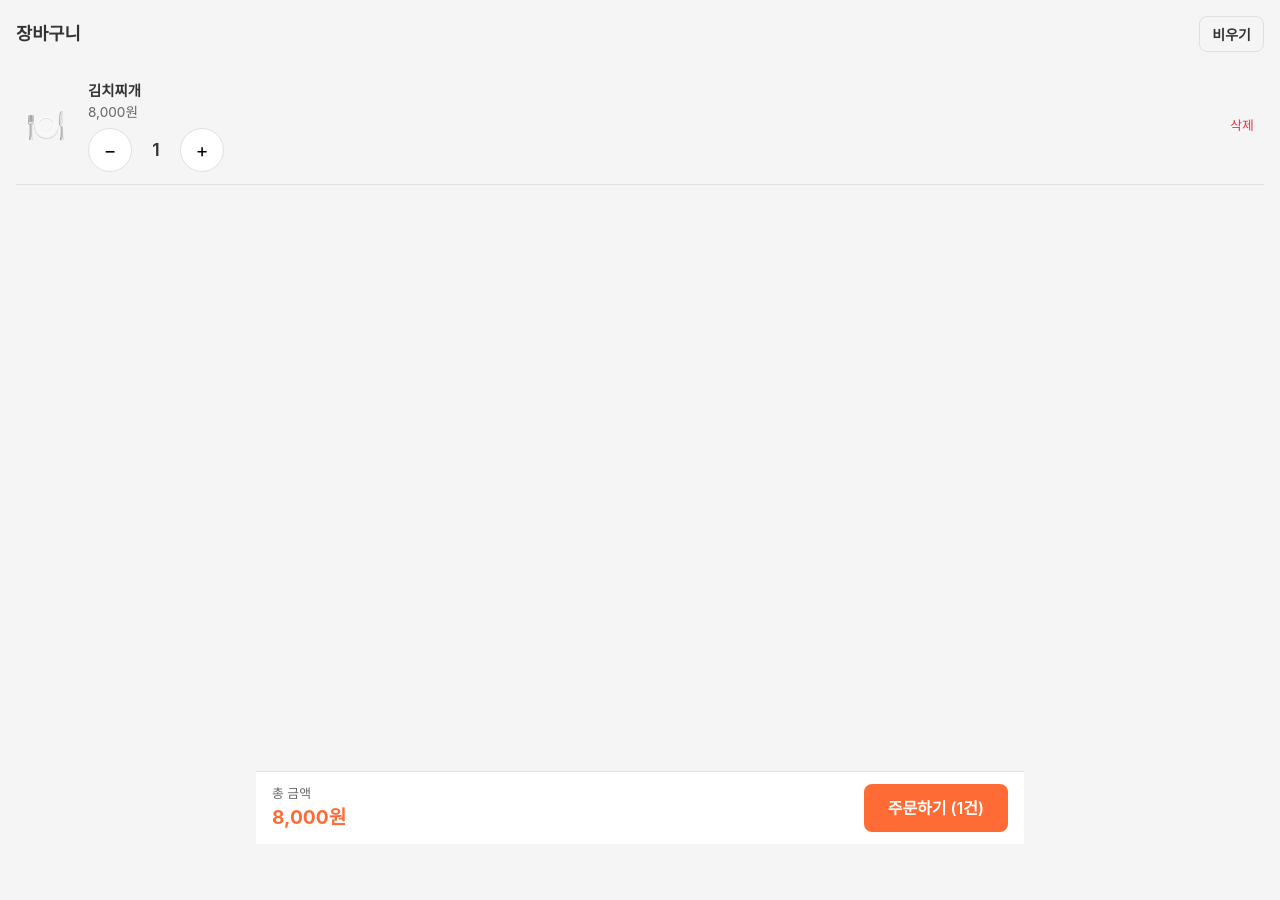
US-401: CartPage — 주문 확정 › 주문 성공 시 주문 완료 화면이 표시된다
Click the button "주문하기 (1건)" at (936, 808), box [864,784,1008,832]
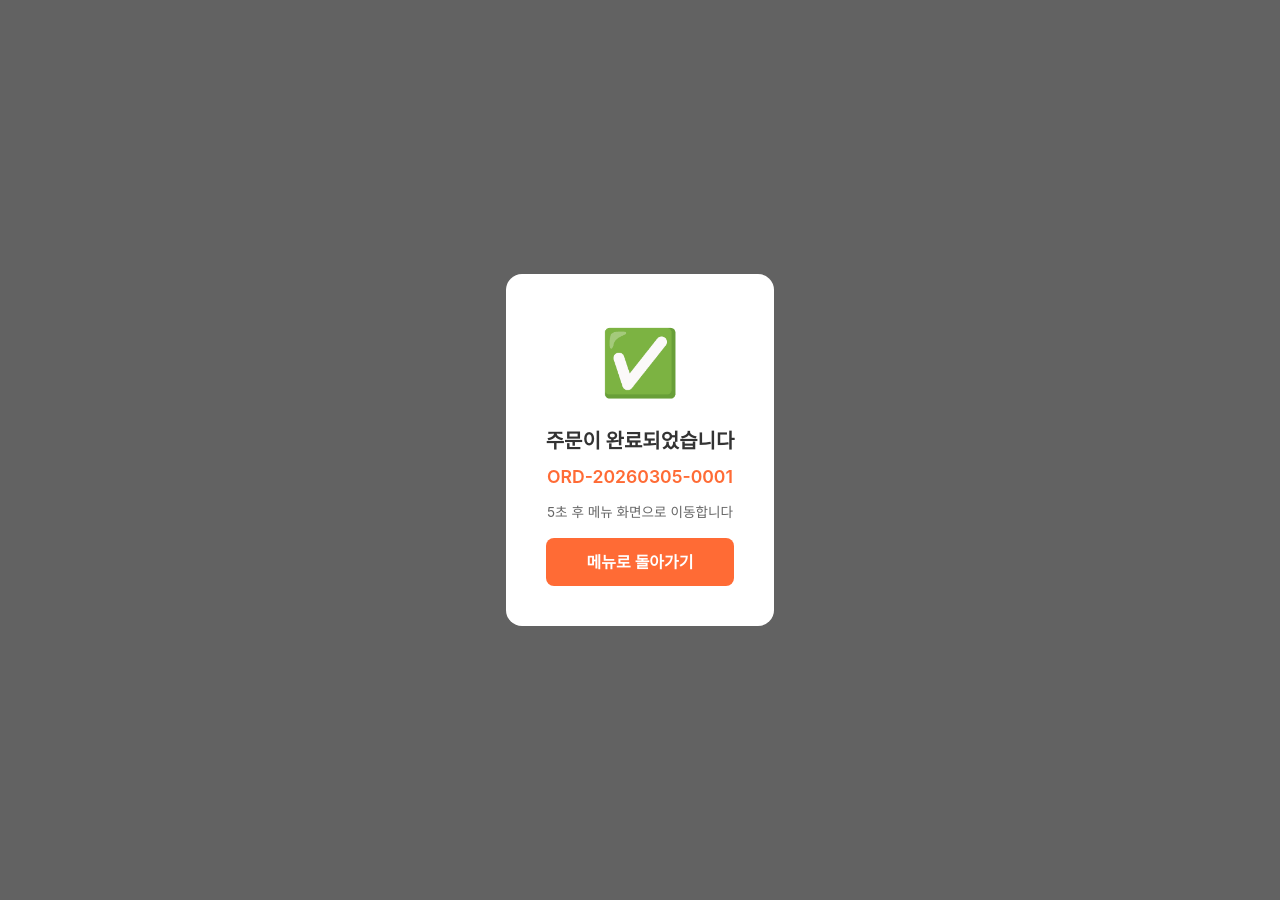
Expected: the text "주문이 완료되었습니다" is shown, [546,426,734,456]
